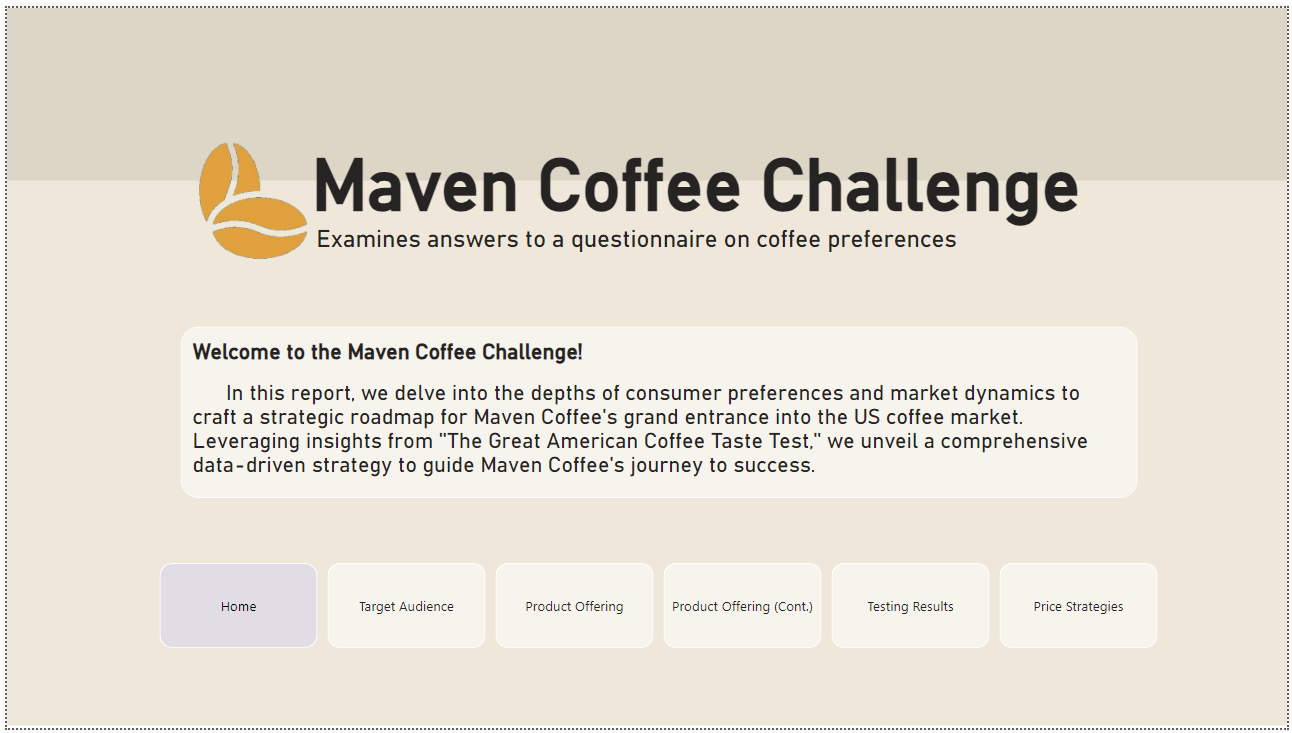

What the dashboard file says about the page in this screenshot:
{"tool":"powerbi","page":{"name":"Home","canvas":[1280,720],"ordinal":0},"visuals":[{"type":"textbox","box":[173.6,319,957.1,171.1],"z":1000},{"type":"textbox","box":[299.5,129.6,816.6,125.9],"z":7000},{"type":"image","box":[173.6,129.6,144.2,125.9],"z":8000},{"type":"pageNavigator","box":[152.8,555,999.9,85.6],"z":8001}]}

Visuals, with their boxes in screenshot pixels (x1, y1, x2, y2), scaled from the page's 1280x720 canvas onto the 1292x733 screenshot:
textbox: x1=175 y1=325 x2=1141 y2=499
textbox: x1=302 y1=132 x2=1127 y2=260
image: x1=175 y1=132 x2=321 y2=260
pageNavigator: x1=154 y1=565 x2=1164 y2=652
